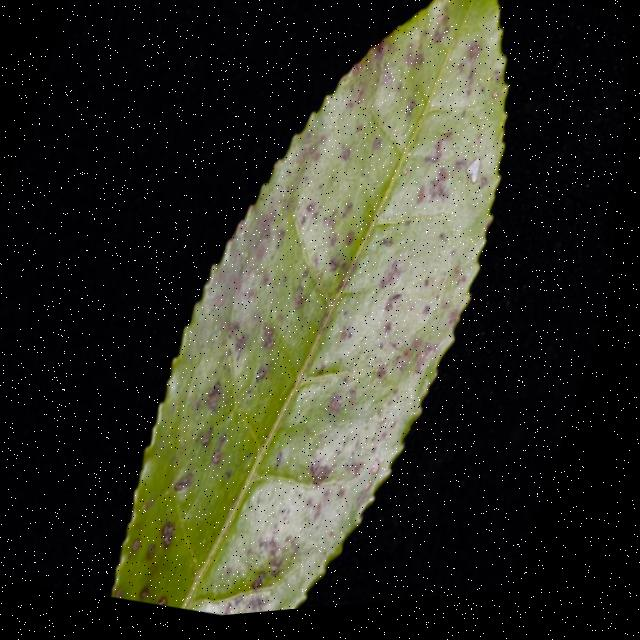Tea red rust: (116, 0, 559, 629)
